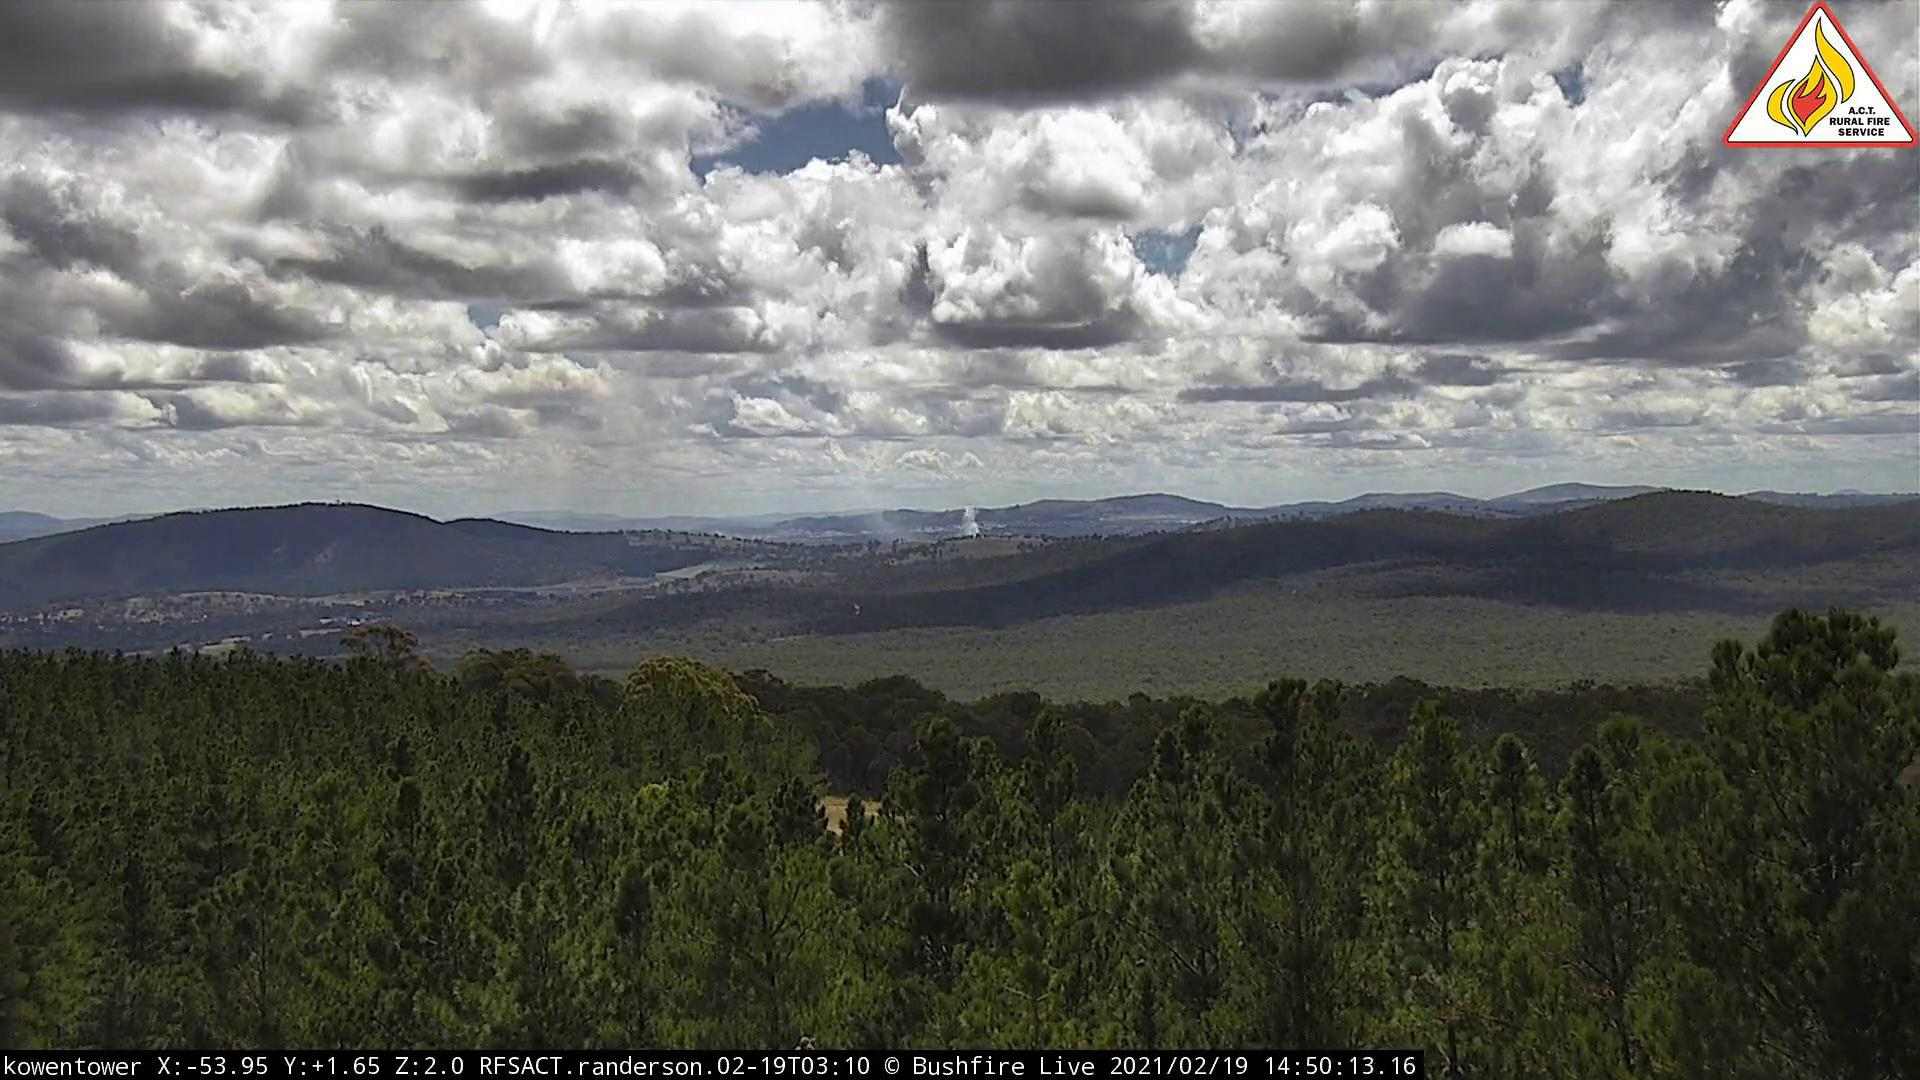Smoke: (538, 436, 988, 553)
